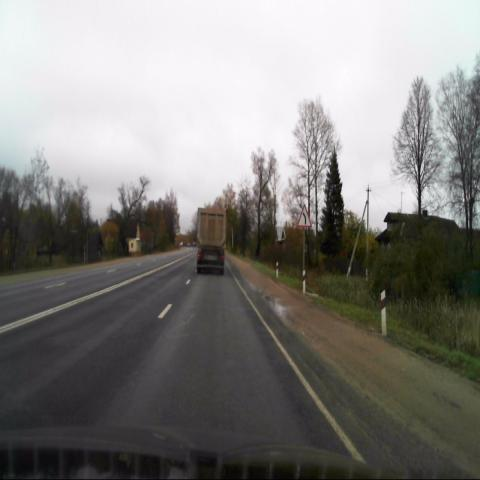1_11_1: (297, 204, 311, 227)
